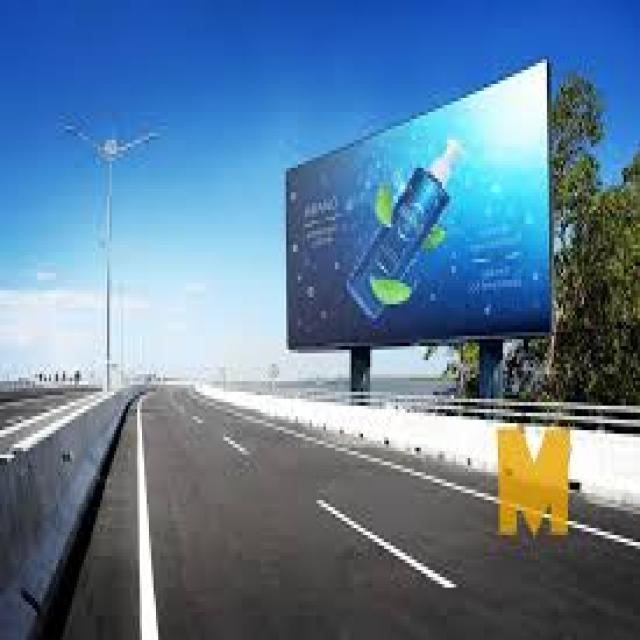Billboard_RHS: (282, 42, 559, 355)
Roadcorner: (266, 407, 638, 570), (121, 376, 168, 637)
Roadlane: (175, 395, 491, 628)
